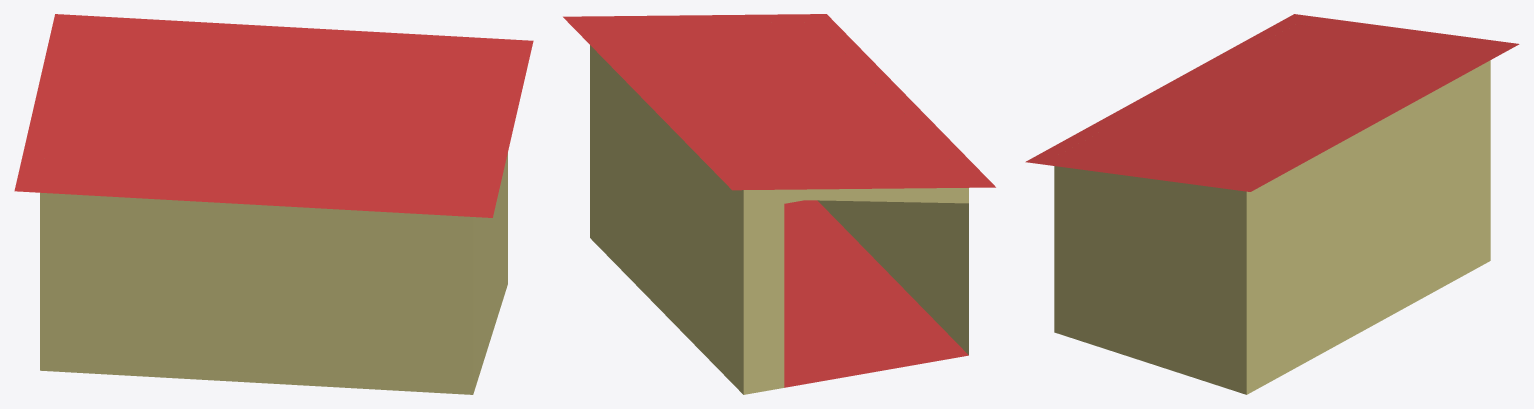
3 renders of one model, left to right at view 1: azimuth 30°, elevation 25°; view 2: azimuth 150°, elevation 25°; view 3: azimuth 270°, elevation 25°, orthographic. The views are drawn at different scales.
Bounding box in the file's own units: 18.83 × 17.79 × 8.54.
